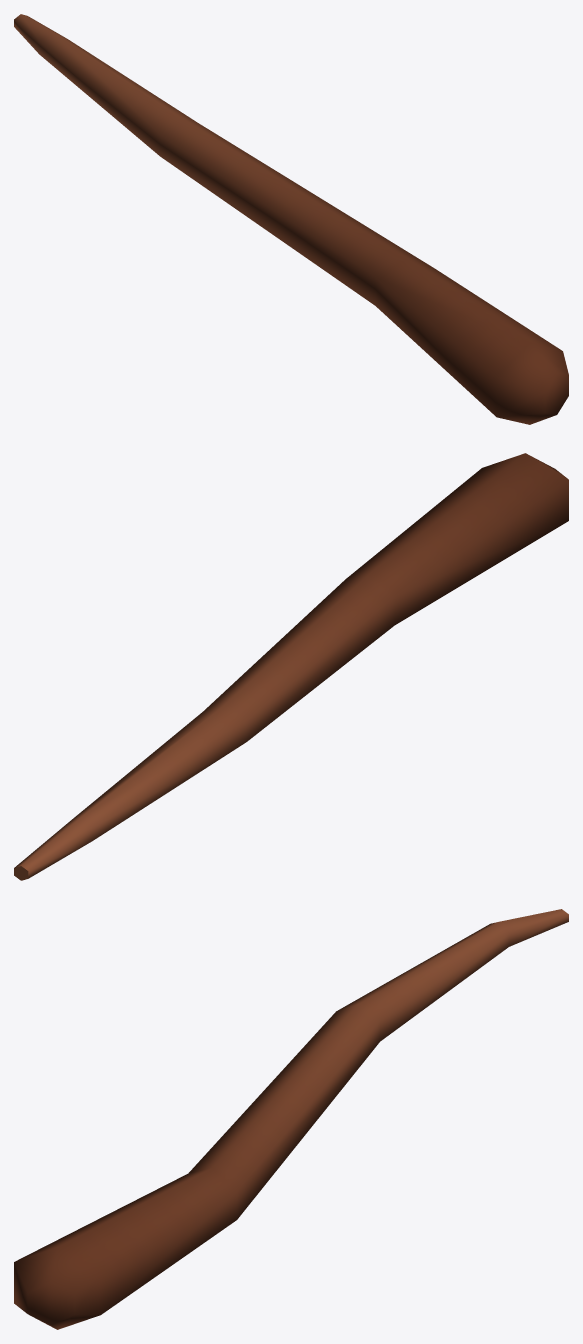
File: Wand5.fbx
3 views of the same model, one above another, from view 1: azimuth 30°, elevation 25°; view 2: azimuth 150°, elevation 25°; view 3: azimuth 330°, elevation 25° (orthographic).
Parts seen in each view (by area): view 1: Wand5; view 2: Wand5; view 3: Wand5.
Boxes of the visible parts, x1,y1,x2,y2 form: Wand5: [14, 14, 568, 424]; Wand5: [14, 453, 568, 880]; Wand5: [14, 909, 568, 1329].
Bounding box in the file's own units: 3.25 × 2.86 × 33.44.
